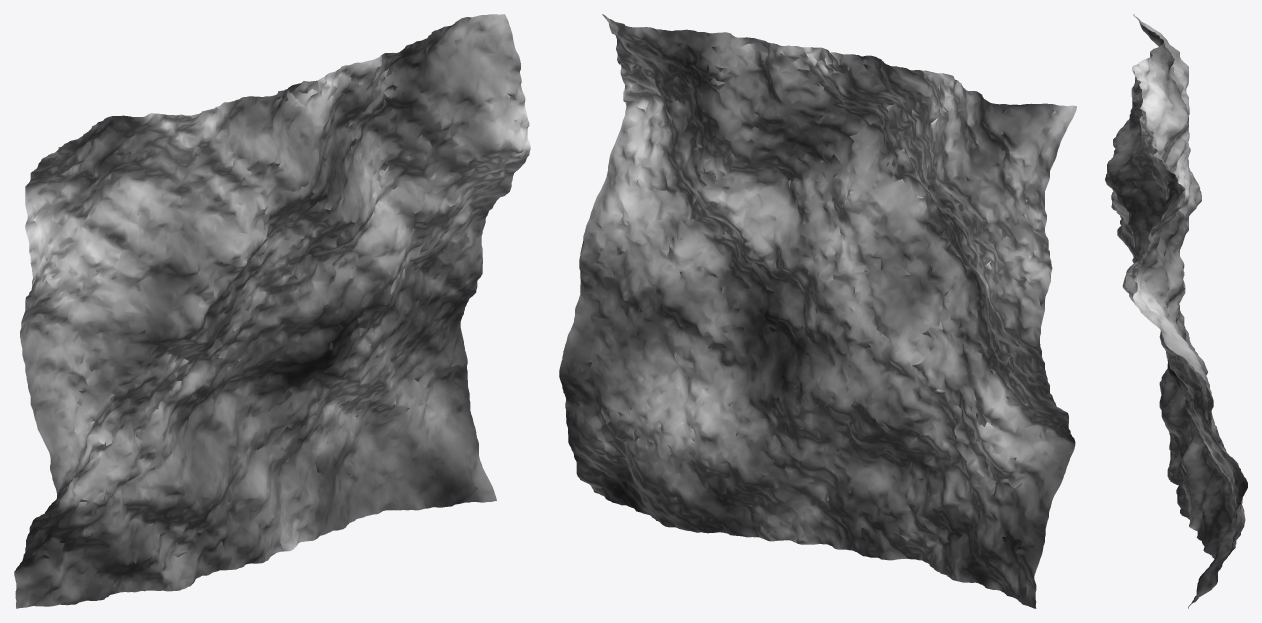
3 renders of one model, left to right at view 1: azimuth 30°, elevation 25°; view 2: azimuth 150°, elevation 25°; view 3: azimuth 270°, elevation 25°, orthographic. The views are drawn at different scales.
Visible parts, largest first — view 1: Depth Map; view 2: Depth Map; view 3: Depth Map.
Boxes of the visible parts, left/top/right/bottom form: Depth Map: left=14, top=14, right=530, bottom=608; Depth Map: left=559, top=14, right=1076, bottom=608; Depth Map: left=1105, top=14, right=1247, bottom=608.
Bounding box in the file's own units: 255 × 255 × 81.32.
Materials: 1 (1 with a texture image).
